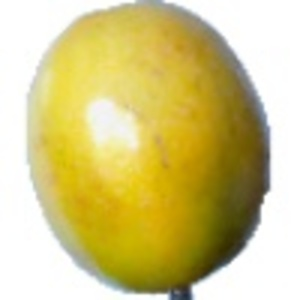maracujá: (23, 1, 273, 300)
